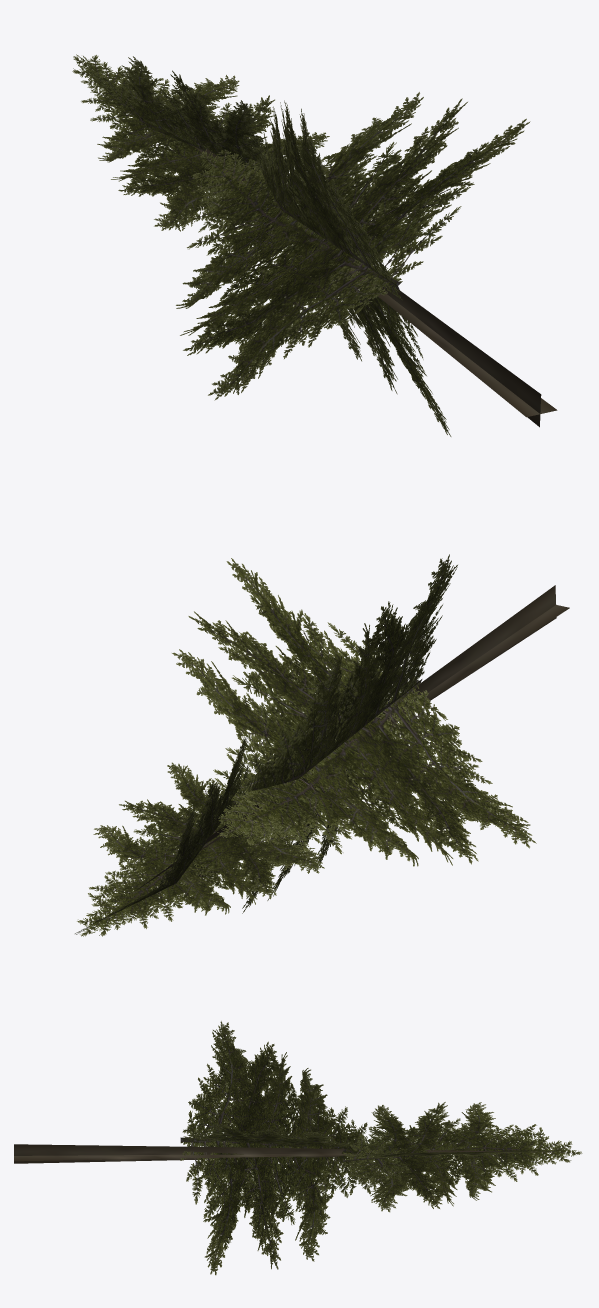
The model's file is MEP_Con_01_f_LOD_02.fbx.
The picture shows the model from 3 angles, top to bottom: view 1: azimuth 30°, elevation 25°; view 2: azimuth 150°, elevation 25°; view 3: azimuth 270°, elevation 25°; orthographic projection. The views are drawn at different scales.
Visible parts, largest first — view 1: MEP_Con_01_f_LOD_02; view 2: MEP_Con_01_f_LOD_02; view 3: MEP_Con_01_f_LOD_02.
Boxes of the visible parts, left/top/right/bottom form: MEP_Con_01_f_LOD_02: left=72, top=54, right=557, bottom=436; MEP_Con_01_f_LOD_02: left=75, top=554, right=569, bottom=936; MEP_Con_01_f_LOD_02: left=14, top=1021, right=582, bottom=1275.
Bounding box in the file's own units: 9.01 × 9.8 × 20.91.
